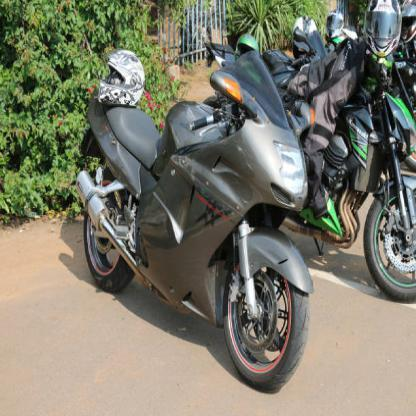Motorcycle: (72, 40, 309, 396)
